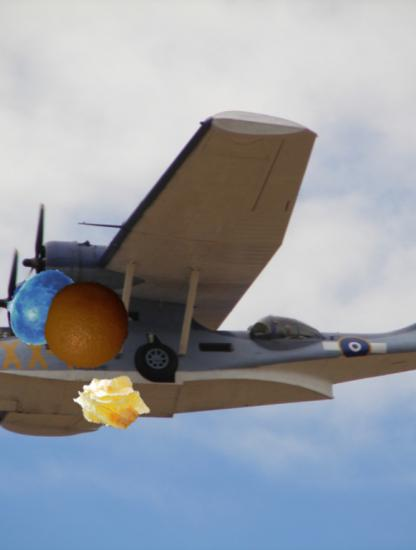Huckleberry: (2, 267, 82, 347)
Orange: (43, 281, 132, 370)
Physalis: (72, 360, 153, 441)
